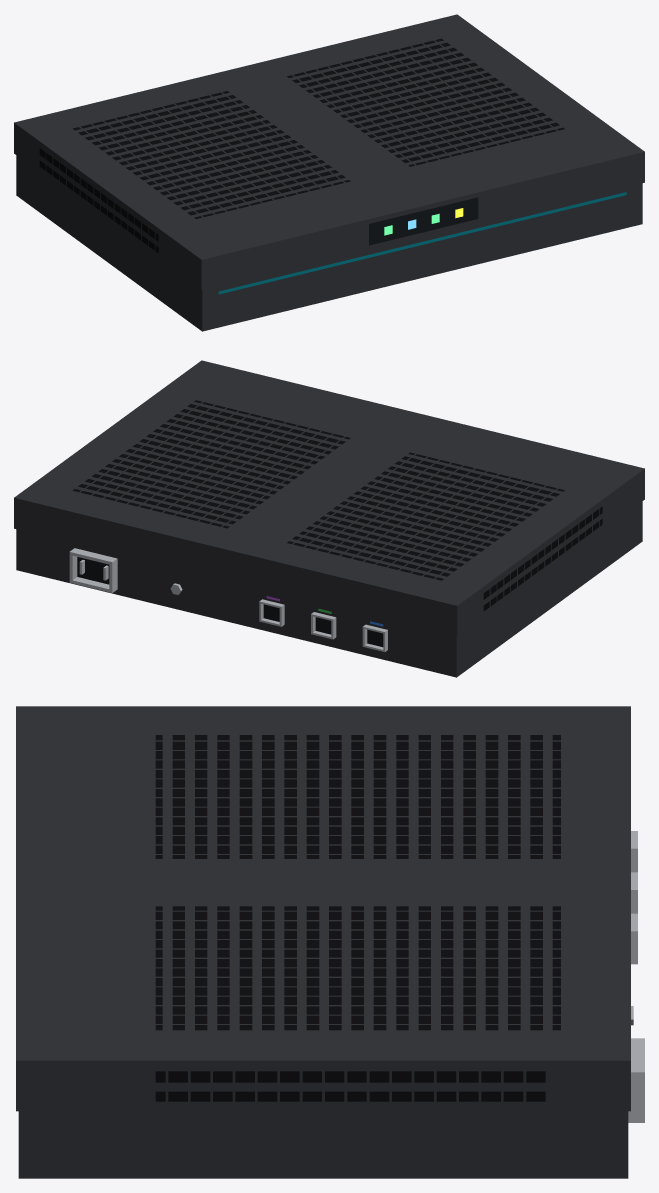
Rendered from ISP_InternetGateway.glb.
3 views of the same model, one above another, from view 1: azimuth 30°, elevation 25°; view 2: azimuth 150°, elevation 25°; view 3: azimuth 270°, elevation 25° (orthographic). The views are drawn at different scales.
Visible parts, largest first — view 1: ISP_InternetGateway; view 2: ISP_InternetGateway; view 3: ISP_InternetGateway.
Boxes of the visible parts, box(x1,y1,x2,y2) form: ISP_InternetGateway: box(14, 14, 644, 331); ISP_InternetGateway: box(14, 360, 644, 677); ISP_InternetGateway: box(16, 706, 644, 1178).
Size of the model in its own units: 0.3006 by 0.0503 by 0.2257.
8 materials, 1 textured.
